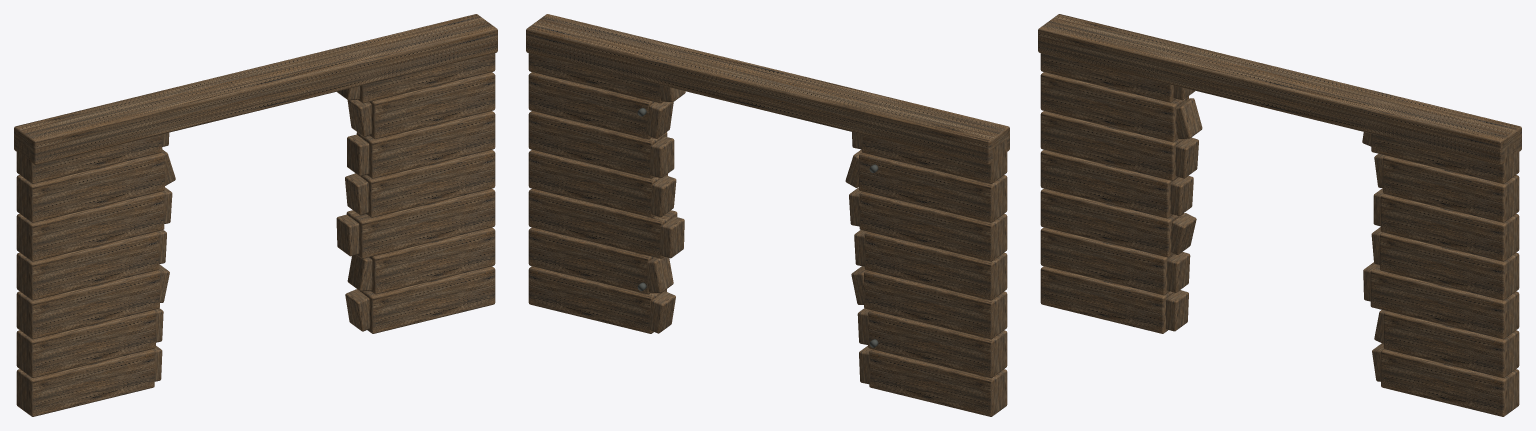
Rendered from wide_frame.glb.
The picture shows the model from 3 angles, left to right: view 1: azimuth 30°, elevation 25°; view 2: azimuth 150°, elevation 25°; view 3: azimuth 330°, elevation 25°; orthographic projection.
Parts seen in each view (by area): view 1: wide_frame_mesh; view 2: wide_frame_mesh; view 3: wide_frame_mesh.
Part boxes in pixels (bbox=[...]): wide_frame_mesh: bbox=[14, 14, 497, 416]; wide_frame_mesh: bbox=[526, 14, 1009, 416]; wide_frame_mesh: bbox=[1038, 14, 1521, 416].
Bounding box in the file's own units: 5 × 2.86 × 0.41.
2 materials, 1 textured.
